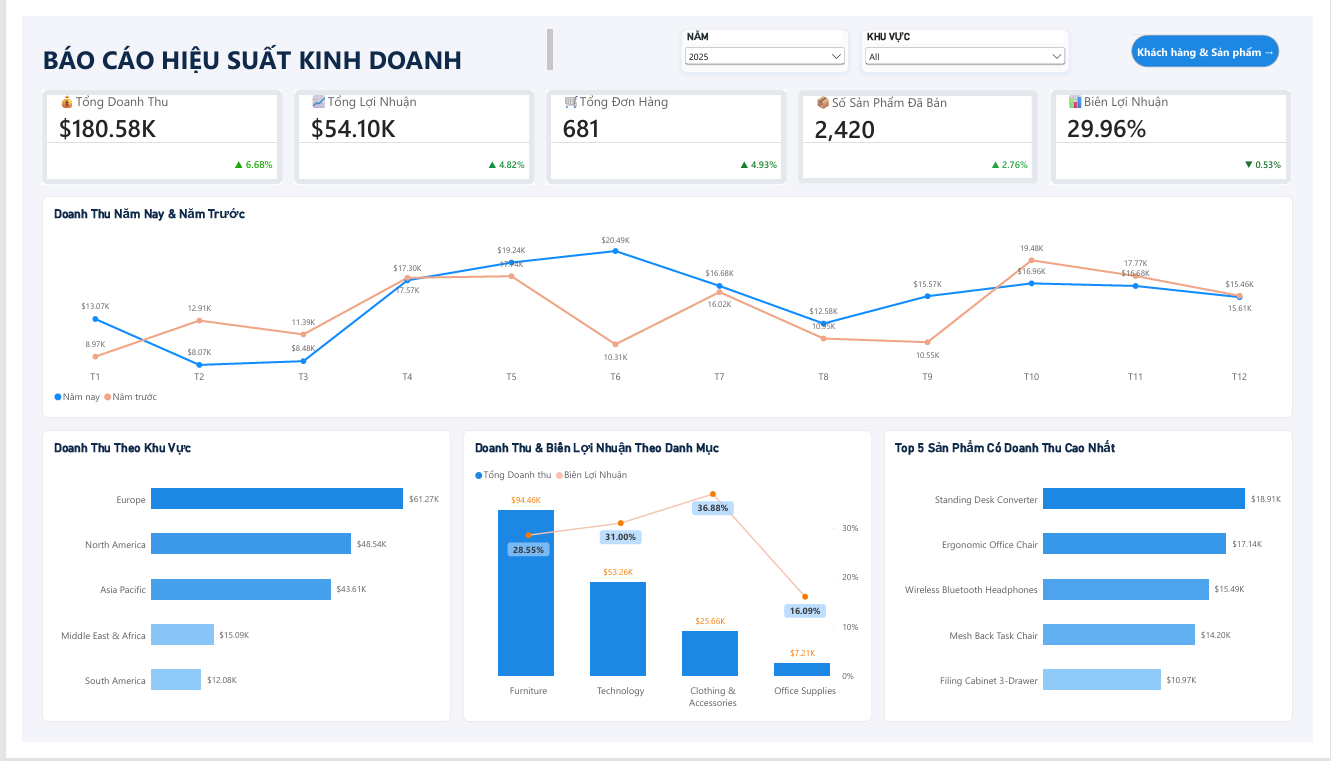

The dashboard page shown, as its layout file describes it:
{"tool":"powerbi","page":{"name":"Tổng quan","canvas":[1920,1080],"ordinal":0},"visuals":[{"type":"cardVisual","fields":{"Data":["global_ecommerce_sales.Total Sales (SUMX)"]},"box":[30,110,357,140],"z":0},{"type":"textbox","box":[30,20,760,64],"z":1000},{"type":"shape","box":[1650,28,220,48],"z":2000},{"type":"clusteredBarChart","title":"Top 5 Sản Phẩm Có Doanh Thu Cao Nhất","fields":{"Category":["global_ecommerce_sales.Product_Name"],"Y":["Measure Group.Total Sales (SUMX)"]},"box":[1282,616,608,434],"z":3000},{"type":"cardVisual","fields":{"Data":["Measure Group.Total Profits"]},"box":[405,110,357,140],"z":4000},{"type":"cardVisual","fields":{"Data":["Measure Group.Total Orders"]},"box":[780,110,357,140],"z":5000},{"type":"slicer","fields":{"Values":["Date.Date.Variation.Date Hierarchy.Year"]},"box":[980,20,250,64],"z":6000},{"type":"cardVisual","fields":{"Data":["Measure Group.Total Quantities"]},"box":[1154,110,357,140],"z":7000},{"type":"slicer","fields":{"Values":["global_ecommerce_sales.Region"]},"box":[1248,20,310,64],"z":8000},{"type":"cardVisual","fields":{"Data":["Measure Group.Profit Margin"]},"box":[1530,110,357,140],"z":9000},{"type":"lineChart","title":"Doanh Thu Năm Nay & Năm Trước","fields":{"Category":["Date.Month Vn"],"Y":["Measure Group.Total Sales","Measure Group.Sales Last Year"]},"box":[30,268,1860,330],"z":10000},{"type":"clusteredBarChart","title":"Doanh Thu Theo Khu Vực","fields":{"Category":["global_ecommerce_sales.Region"],"Y":["Measure Group.Total Sales"]},"box":[30,616,608,434],"z":11000},{"type":"lineClusteredColumnComboChart","title":"Doanh Thu & Biên Lợi Nhuận Theo Danh Mục","fields":{"Category":["global_ecommerce_sales.Product_Category"],"Y":["Measure Group.Total Sales"],"Y2":["Measure Group.Profit Margin"]},"box":[656,616,608,434],"z":12000}]}

Visuals, with their boxes in screenshot pixels (x1, y1, x2, y2), scaled from the page's 1920x1080 canvas onto the 1331x761 screenshot:
cardVisual - global_ecommerce_sales.Total Sales (SUMX): 21,78,268,176
textbox: 21,14,548,59
shape: 1144,20,1296,54
"Top 5 Sản Phẩm Có Doanh Thu Cao Nhất" clusteredBarChart: 889,434,1310,740
cardVisual - Measure Group.Total Profits: 281,78,528,176
cardVisual - Measure Group.Total Orders: 541,78,788,176
slicer - Date.Date.Variation.Date Hierarchy.Year: 679,14,853,59
cardVisual - Measure Group.Total Quantities: 800,78,1047,176
slicer - global_ecommerce_sales.Region: 865,14,1080,59
cardVisual - Measure Group.Profit Margin: 1061,78,1308,176
"Doanh Thu Năm Nay & Năm Trước" lineChart: 21,189,1310,421
"Doanh Thu Theo Khu Vực" clusteredBarChart: 21,434,442,740
"Doanh Thu & Biên Lợi Nhuận Theo Danh Mục" lineClusteredColumnComboChart: 455,434,876,740
